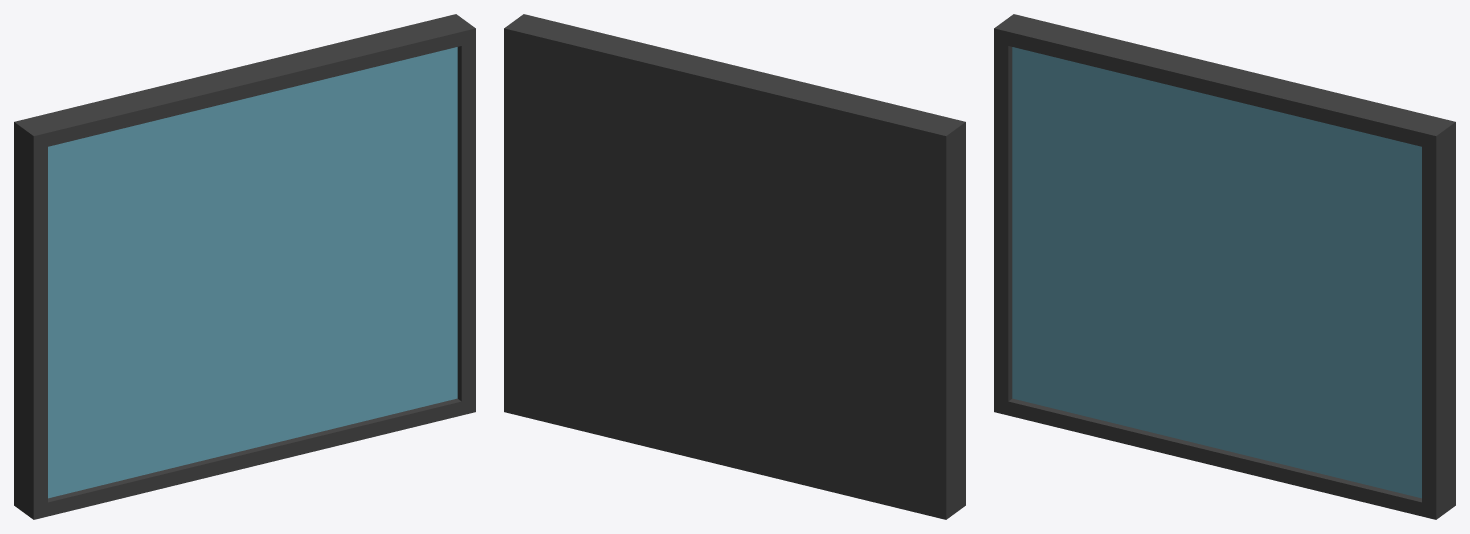
File: ShowerMirror_01.fbx
The picture shows the model from 3 angles, left to right: view 1: azimuth 30°, elevation 25°; view 2: azimuth 150°, elevation 25°; view 3: azimuth 330°, elevation 25°; orthographic projection.
Parts seen in each view (by area): view 1: ShowerMirror_01; view 2: ShowerMirror_01; view 3: ShowerMirror_01.
Part boxes in pixels (<box>): ShowerMirror_01: <box>14,14,475,519</box>; ShowerMirror_01: <box>504,14,965,519</box>; ShowerMirror_01: <box>994,14,1455,519</box>.
Bounding box in the file's own units: 79.31 × 65.78 × 6.1.
